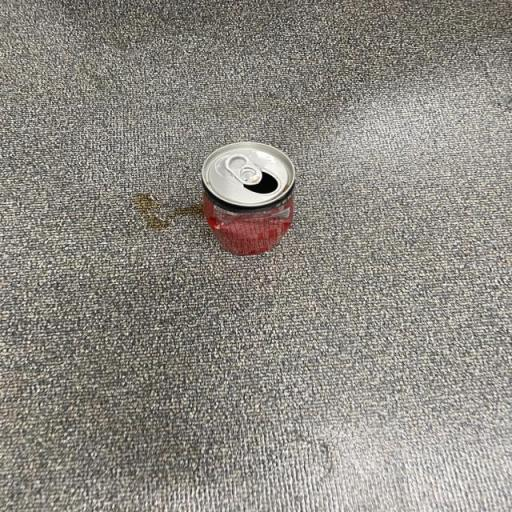metal: (189, 130, 304, 266)
